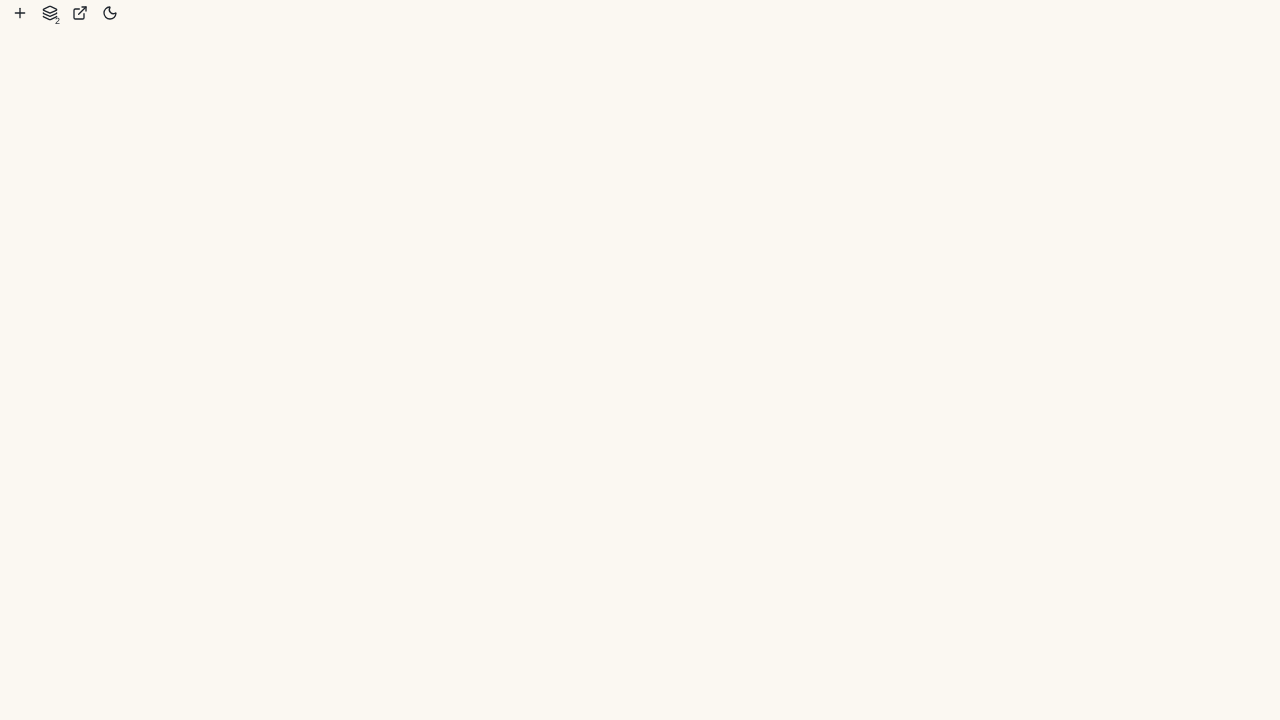
Test: ShellTitlebar › shows only the current session directory name with its backend icon in the pane shelf
Click the button named "打开窗格库" at [50, 12], box x1=38 y1=0 x2=62 y2=24
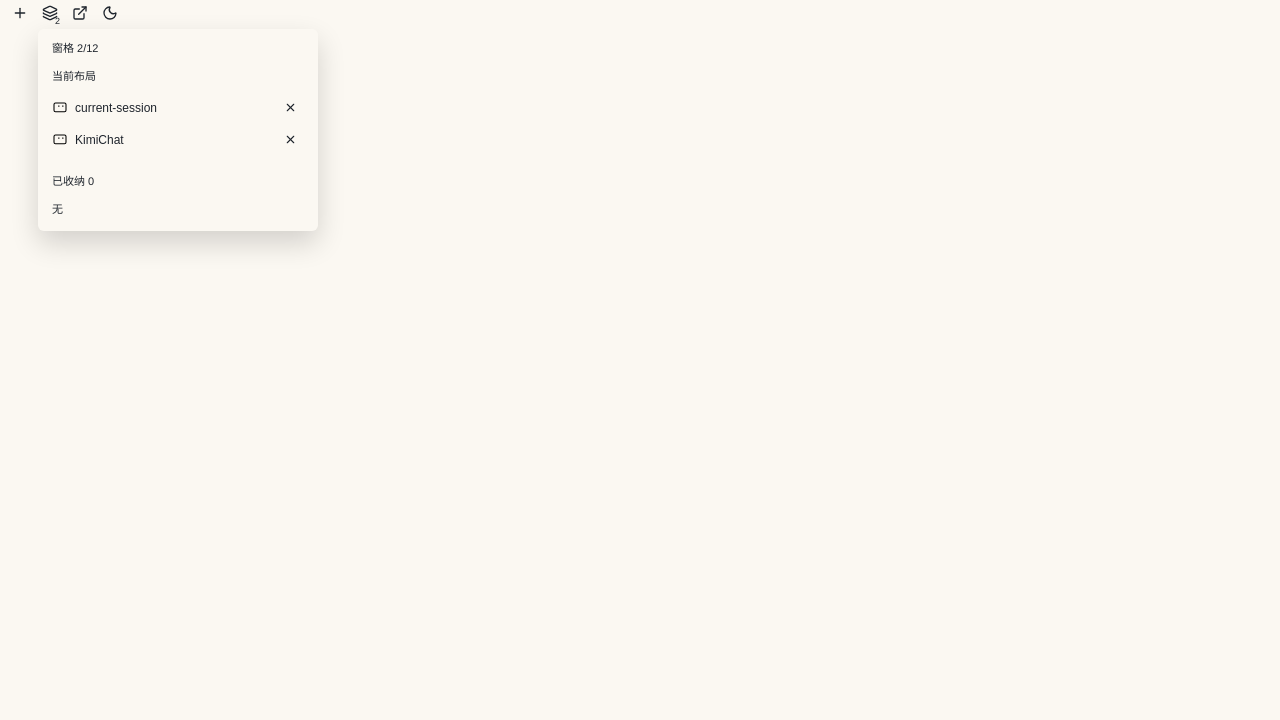
Now the text "current-session" is shown, box x1=75 y1=98 x2=157 y2=116
Now the button named "D:\\projects\\client\\current-session" is shown, box x1=44 y1=92 x2=284 y2=124
Now the 1st picture named "Kimi Code" is shown, box x1=52 y1=100 x2=68 y2=116
